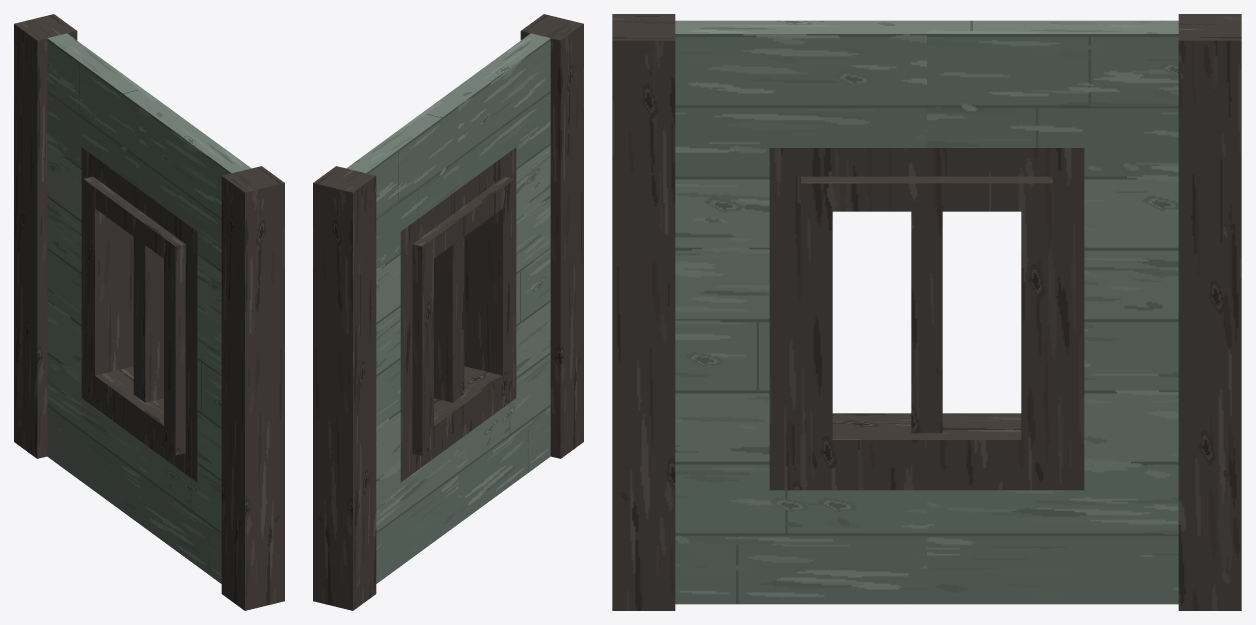
Rendered from wall-wood-window-shutters.gltf.
3 renders of one model, left to right at view 1: azimuth 30°, elevation 25°; view 2: azimuth 150°, elevation 25°; view 3: azimuth 270°, elevation 25°, orthographic. The views are drawn at different scales.
Parts seen in each view (by area): view 1: wall-wood-window-shutters; view 2: wall-wood-window-shutters; view 3: wall-wood-window-shutters.
Boxes of the visible parts, box(x1,y1,x2,y2) form: wall-wood-window-shutters: box(14, 14, 284, 610); wall-wood-window-shutters: box(313, 14, 583, 610); wall-wood-window-shutters: box(612, 14, 1241, 610).
Bounding box in the file's own units: 0.1 × 1 × 1.
Materials: 2 (2 with a texture image).
